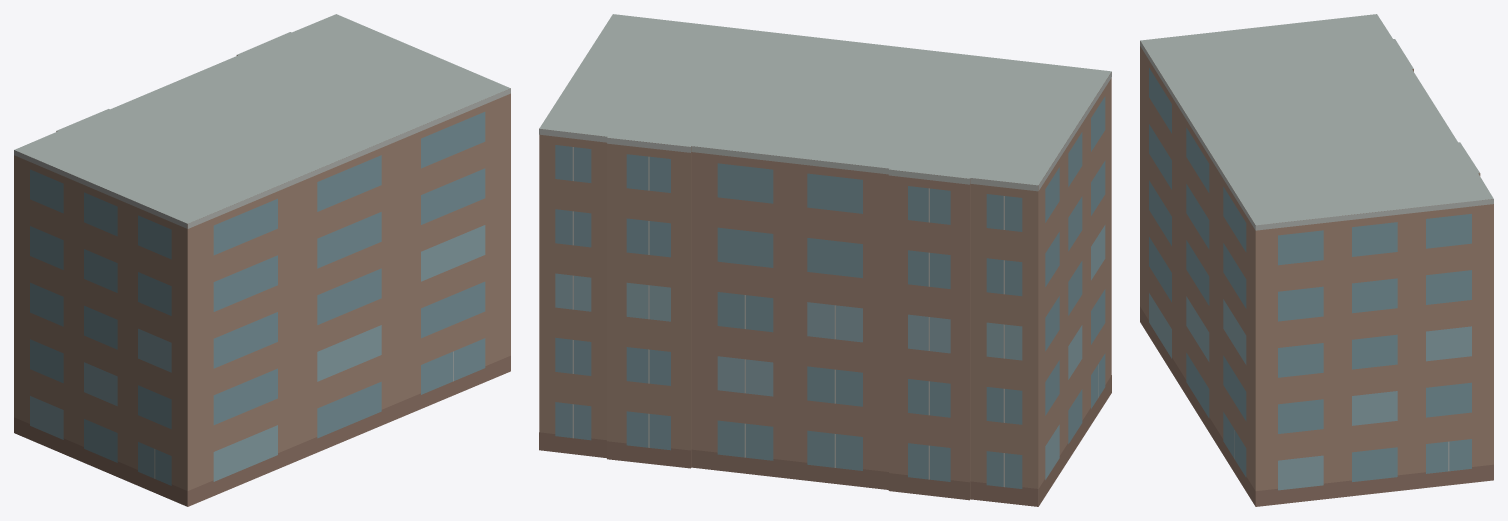
The model's file is survey-upis-32890606.glb.
The picture shows the model from 3 angles, left to right: view 1: azimuth 30°, elevation 25°; view 2: azimuth 150°, elevation 25°; view 3: azimuth 270°, elevation 25°; orthographic projection. The views are drawn at different scales.
Visible parts, largest first — view 1: survey-upis-32890606.tmp; view 2: survey-upis-32890606.tmp; view 3: survey-upis-32890606.tmp.
Boxes of the visible parts, x1,y1,x2,y2 form: survey-upis-32890606.tmp: [14, 14, 510, 506]; survey-upis-32890606.tmp: [539, 14, 1111, 506]; survey-upis-32890606.tmp: [1140, 14, 1493, 506].
Bounding box in the file's own units: 21.27 × 13.2 × 15.04.
